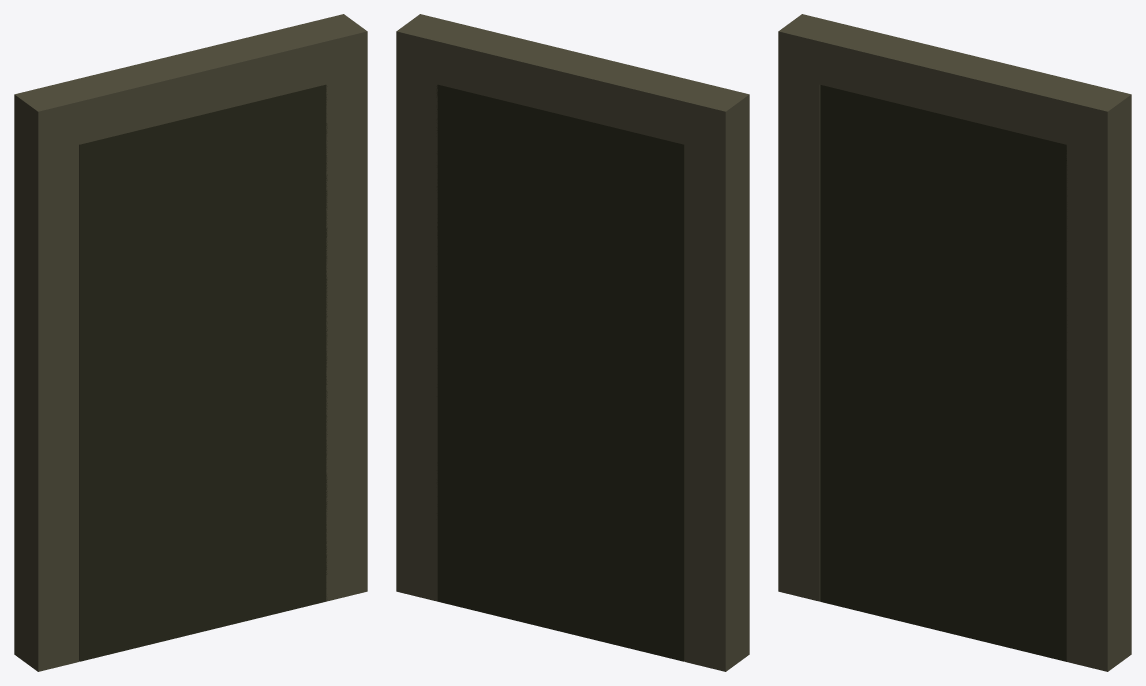
Rendered from Door.fbx.
3 views of the same model, side by side, from view 1: azimuth 30°, elevation 25°; view 2: azimuth 150°, elevation 25°; view 3: azimuth 330°, elevation 25° (orthographic).
Parts seen in each view (by area): view 1: Cube.002, Cube.001; view 2: Cube.002, Cube.001; view 3: Cube.002, Cube.001.
Boxes of the visible parts, box(x1,y1,x2,y2) form: Cube.002: box(79, 84, 327, 661); Cube.001: box(14, 14, 367, 671); Cube.002: box(436, 84, 684, 661); Cube.001: box(396, 14, 749, 671); Cube.002: box(820, 85, 1066, 661); Cube.001: box(778, 14, 1131, 671).
Bounding box in the file's own units: 400 × 650 × 50.
